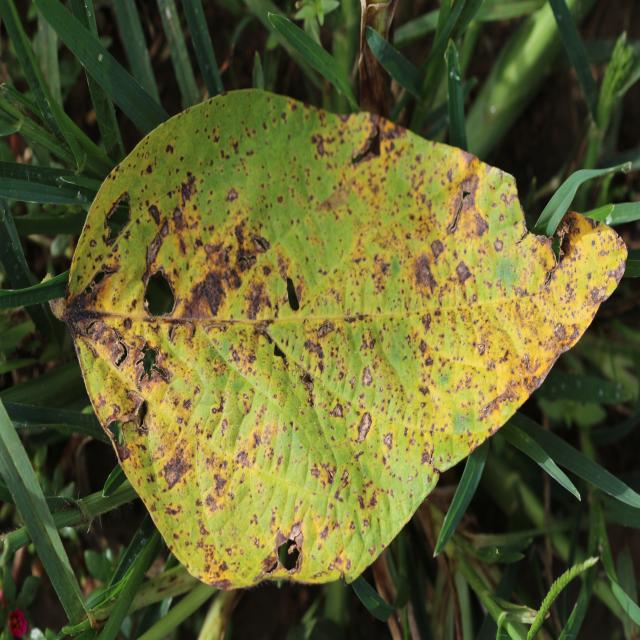Bacterial_Blight: (220, 230, 318, 321), (506, 231, 558, 295), (81, 318, 131, 369), (193, 262, 228, 317), (109, 390, 148, 435), (272, 527, 305, 575), (103, 190, 131, 244), (482, 382, 522, 417), (319, 183, 357, 213), (162, 450, 191, 489), (354, 125, 380, 161), (414, 253, 434, 291), (355, 411, 372, 444), (607, 257, 626, 285), (249, 233, 269, 252), (260, 555, 278, 576), (455, 262, 472, 284), (147, 203, 162, 226), (321, 461, 336, 484), (589, 285, 605, 306), (431, 238, 444, 258), (329, 401, 343, 419), (554, 322, 567, 341), (91, 270, 106, 286), (290, 521, 303, 539), (382, 431, 394, 450), (362, 366, 373, 386), (226, 187, 238, 202), (220, 418, 228, 436), (493, 238, 503, 251), (428, 449, 435, 466), (477, 343, 486, 356), (165, 143, 174, 154), (145, 164, 153, 175), (89, 239, 97, 248)
Soybean: (51, 90, 627, 589)
